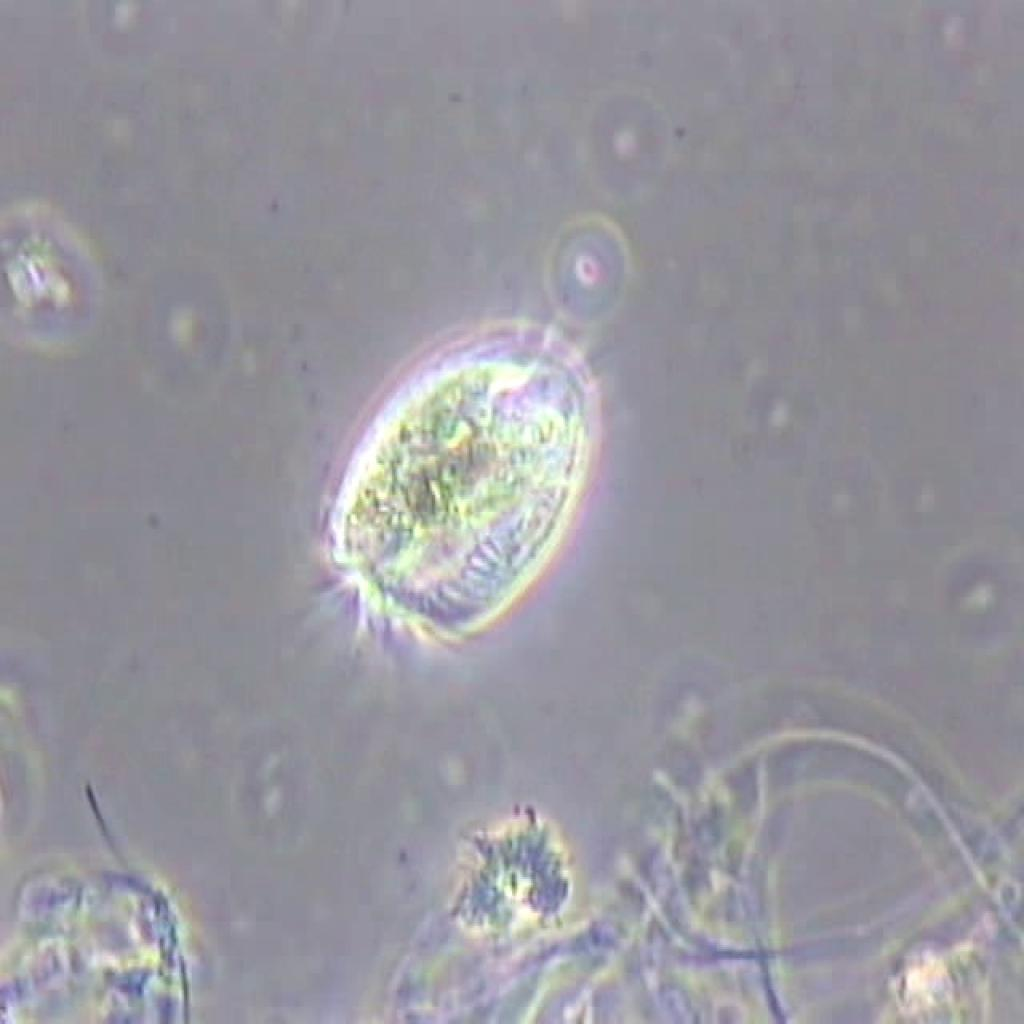Euplotes: (294, 288, 618, 700)
